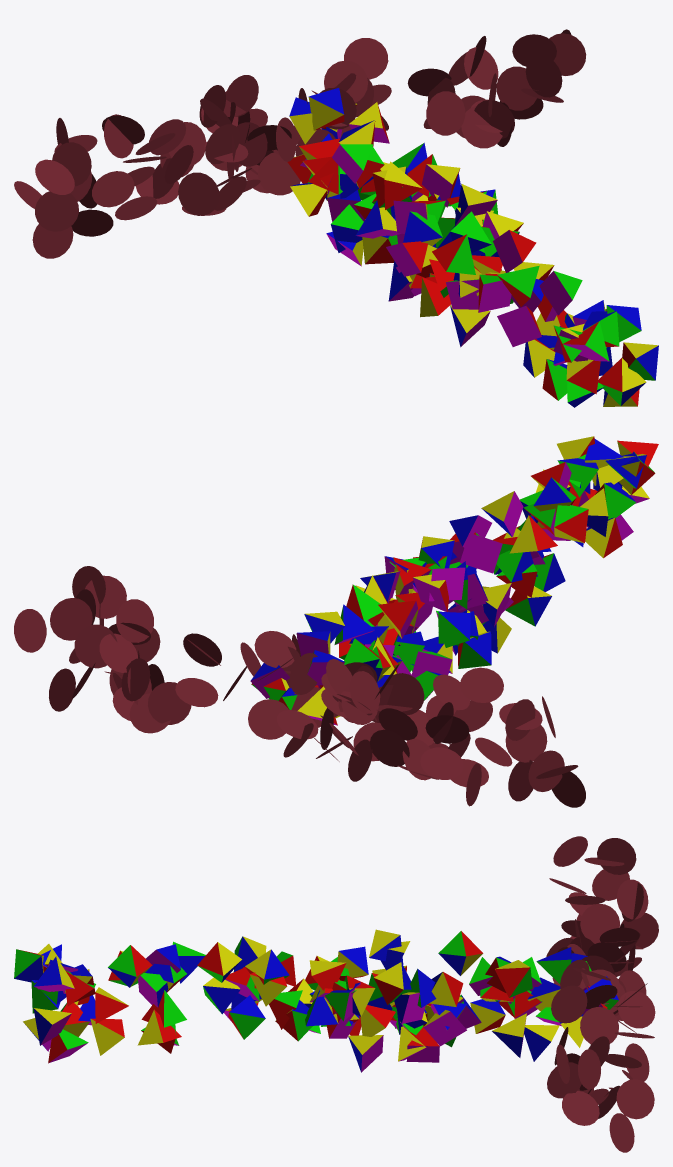
The picture shows the model from 3 angles, top to bottom: view 1: azimuth 30°, elevation 25°; view 2: azimuth 150°, elevation 25°; view 3: azimuth 270°, elevation 25°; orthographic projection. The views are drawn at different scales.
Visible parts, largest first — view 1: pCylinder1, Cube.003_Cube.004_Face1, Cube.004_Cube.005_Face4, Cube.005_Cube.006_Base, Cube.002_Cube.003_Face2, Cube.001_Cube.002_Face3; view 2: pCylinder1, Cube.001_Cube.002_Face3, Cube.005_Cube.006_Base, Cube.002_Cube.003_Face2, Cube.004_Cube.005_Face4, Cube.003_Cube.004_Face1; view 3: pCylinder1, Cube.004_Cube.005_Face4, Cube.001_Cube.002_Face3, Cube.003_Cube.004_Face1, Cube.002_Cube.003_Face2, Cube.005_Cube.006_Base.
Boxes of the visible parts, x1,y1,x2,y2 form: pCylinder1: (14,29,586,258); Cube.003_Cube.004_Face1: (287,104,639,405); Cube.004_Cube.005_Face4: (289,94,658,406); Cube.005_Cube.006_Base: (300,124,608,365); Cube.002_Cube.003_Face2: (302,138,655,405); Cube.001_Cube.002_Face3: (289,88,658,407); pCylinder1: (14,566,585,807); Cube.001_Cube.002_Face3: (250,439,646,698); Cube.005_Cube.006_Base: (250,462,649,725); Cube.002_Cube.003_Face2: (251,452,654,709); Cube.004_Cube.005_Face4: (281,436,649,718); Cube.003_Cube.004_Face1: (251,436,658,725); pCylinder1: (546,836,658,1152); Cube.004_Cube.005_Face4: (23,929,583,1061); Cube.001_Cube.002_Face3: (14,935,618,1072); Cube.003_Cube.004_Face1: (20,931,607,1063); Cube.002_Cube.003_Face2: (14,931,618,1049); Cube.005_Cube.006_Base: (34,950,602,1072).
Size of the model in its own units: 7.24 by 1.53 by 7.95.
